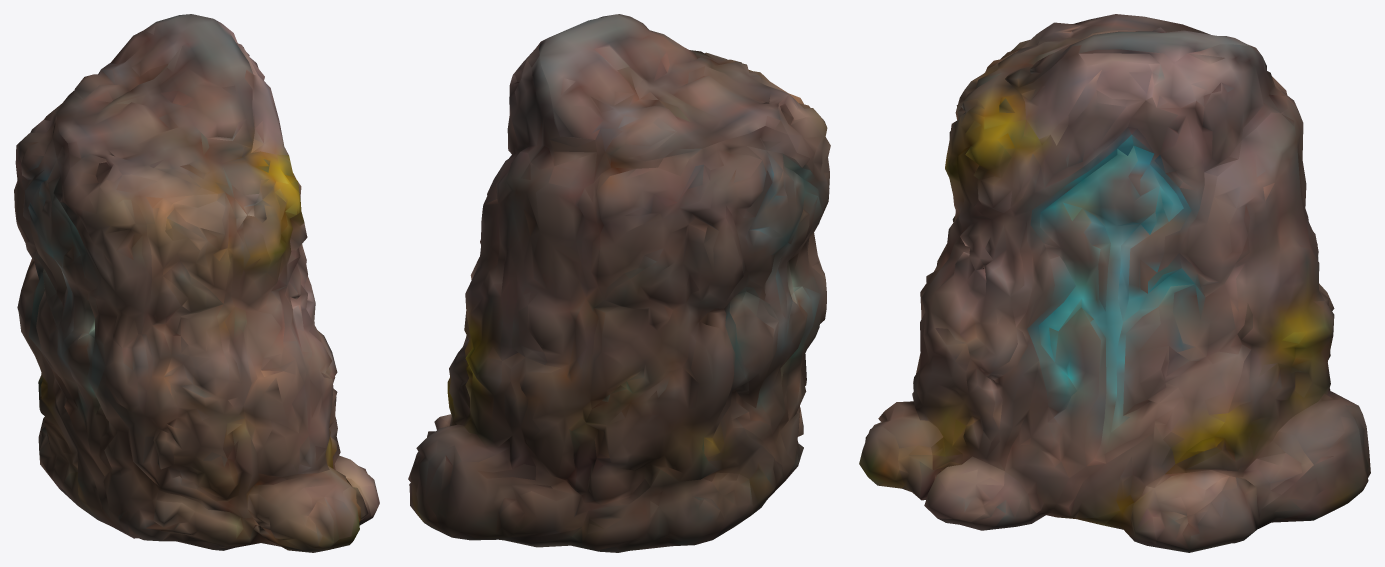
The model's file is rune_slab.glb.
The picture shows the model from 3 angles, left to right: view 1: azimuth 30°, elevation 25°; view 2: azimuth 150°, elevation 25°; view 3: azimuth 270°, elevation 25°; orthographic projection. The views are drawn at different scales.
Visible parts, largest first — view 1: model; view 2: model; view 3: model.
Part boxes in pixels (box(x1,y1,x2,y2)): model: box(14, 14, 379, 552); model: box(408, 14, 830, 552); model: box(859, 14, 1370, 552).
Bounding box in the file's own units: 1.16 × 1.6 × 1.57.
Materials: 1 (1 with a texture image).
